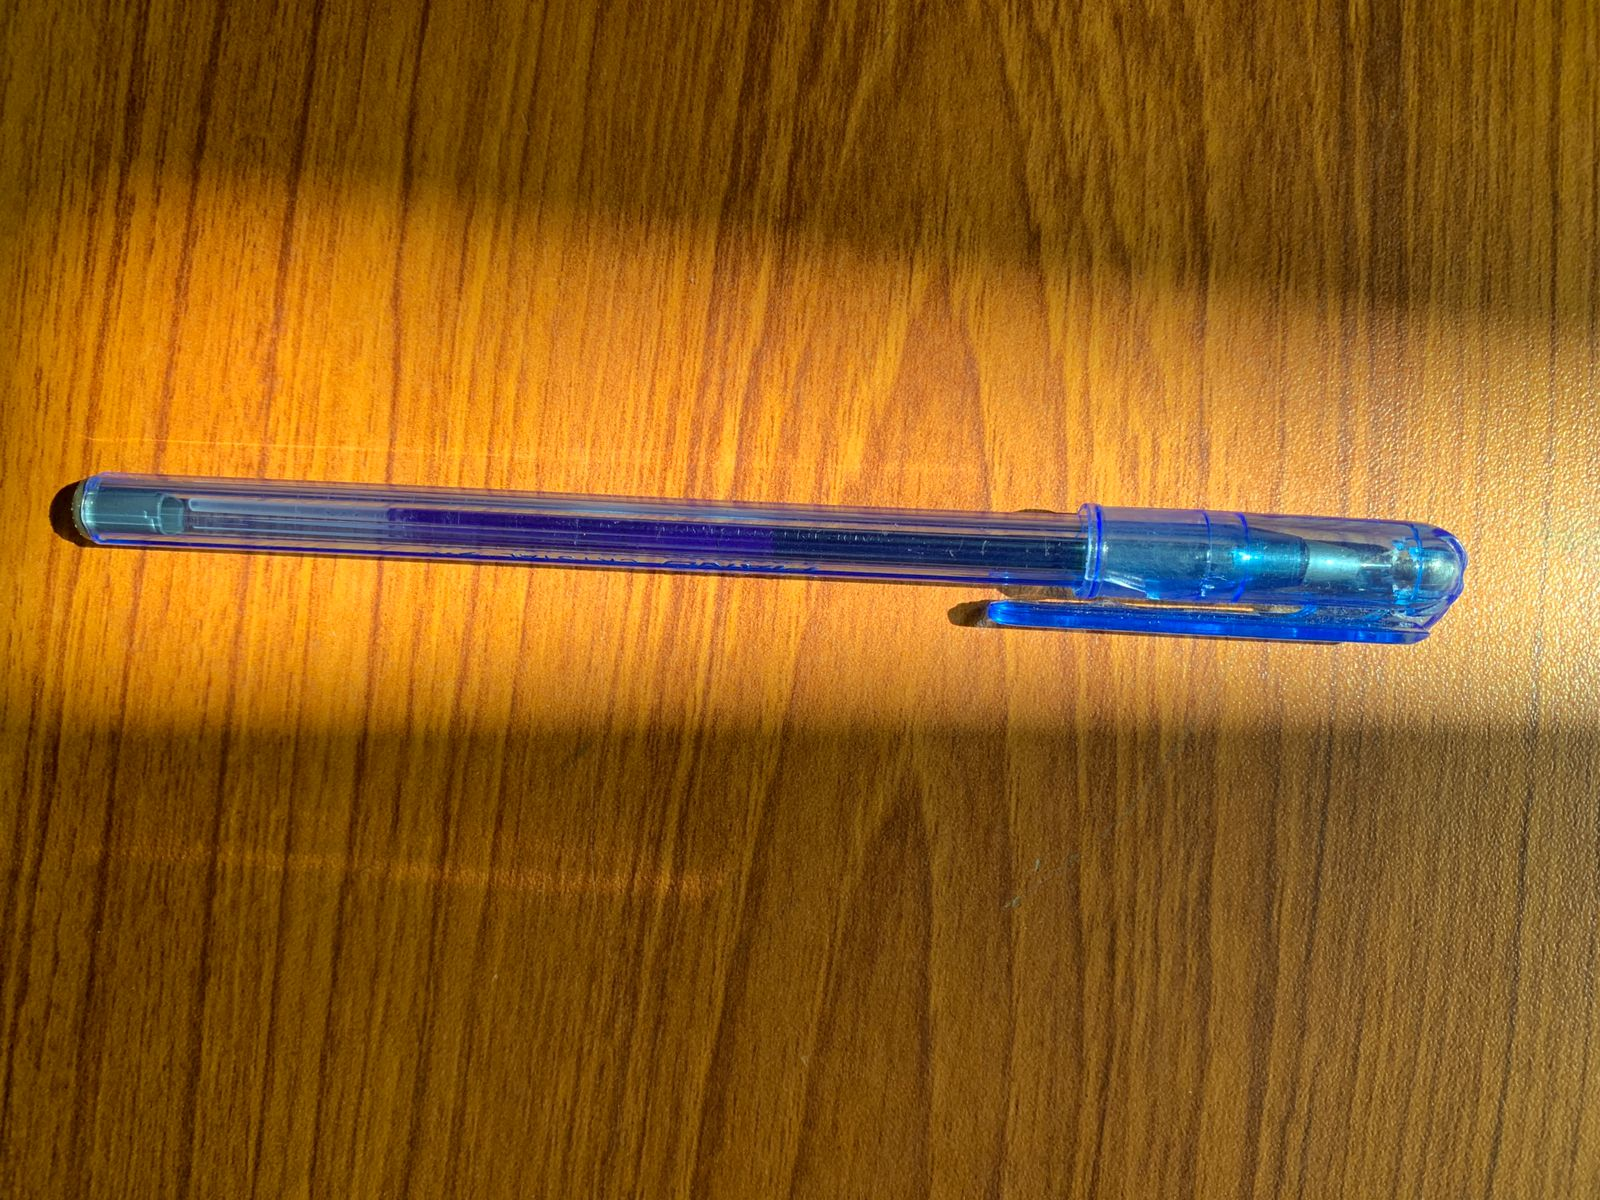pen: (13, 334, 1518, 758)
